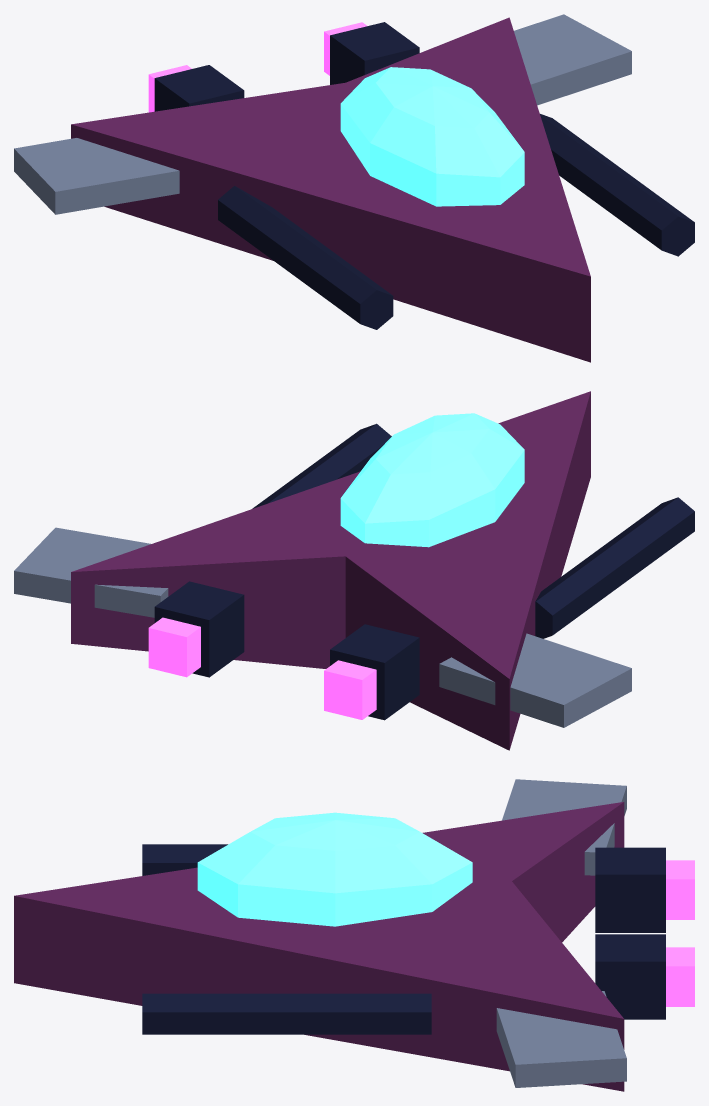
File: skiff.glb
The picture shows the model from 3 angles, top to bottom: view 1: azimuth 30°, elevation 25°; view 2: azimuth 150°, elevation 25°; view 3: azimuth 270°, elevation 25°; orthographic projection.
Parts seen in each view (by area): view 1: Skiff; view 2: Skiff; view 3: Skiff.
Boxes of the visible parts, left/top/right/bottom form: Skiff: left=14, top=14, right=694, bottom=362; Skiff: left=14, top=391, right=694, bottom=750; Skiff: left=14, top=779, right=694, bottom=1091.
Bounding box in the file's own units: 2.1 × 0.61 × 2.12.
